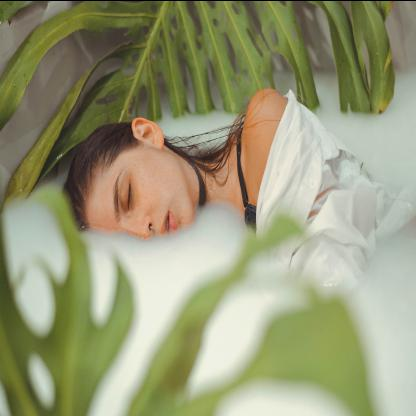Eye: (116, 176, 134, 212)
Mouth: (158, 212, 180, 238)
Nose: (126, 216, 156, 240)
